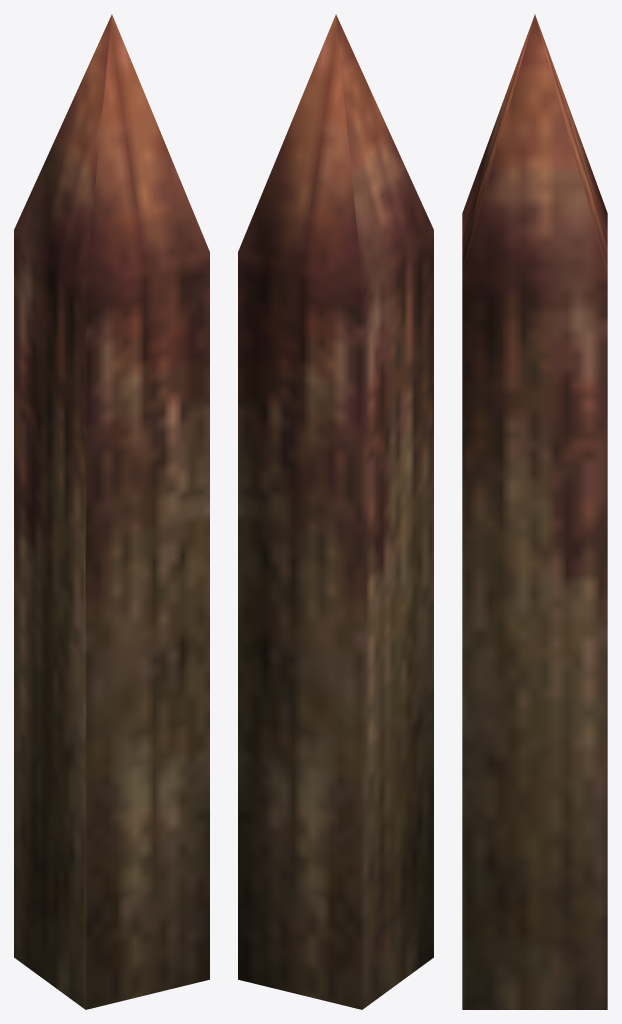
File: stst96.dae
3 views of the same model, side by side, from view 1: azimuth 30°, elevation 25°; view 2: azimuth 150°, elevation 25°; view 3: azimuth 270°, elevation 25° (orthographic).
Parts seen in each view (by area): view 1: kol; view 2: kol; view 3: kol.
Boxes of the visible parts, x1,y1,x2,y2 form: kol: (14,14,209,1009); kol: (238,14,433,1009); kol: (462,14,607,1009).
Bounding box in the file's own units: 0.1275 × 0.1275 × 0.9363.
1 material, 1 textured.
